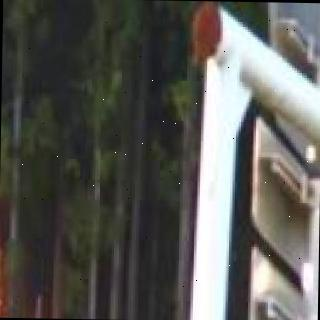fire: (0, 199, 19, 317)
